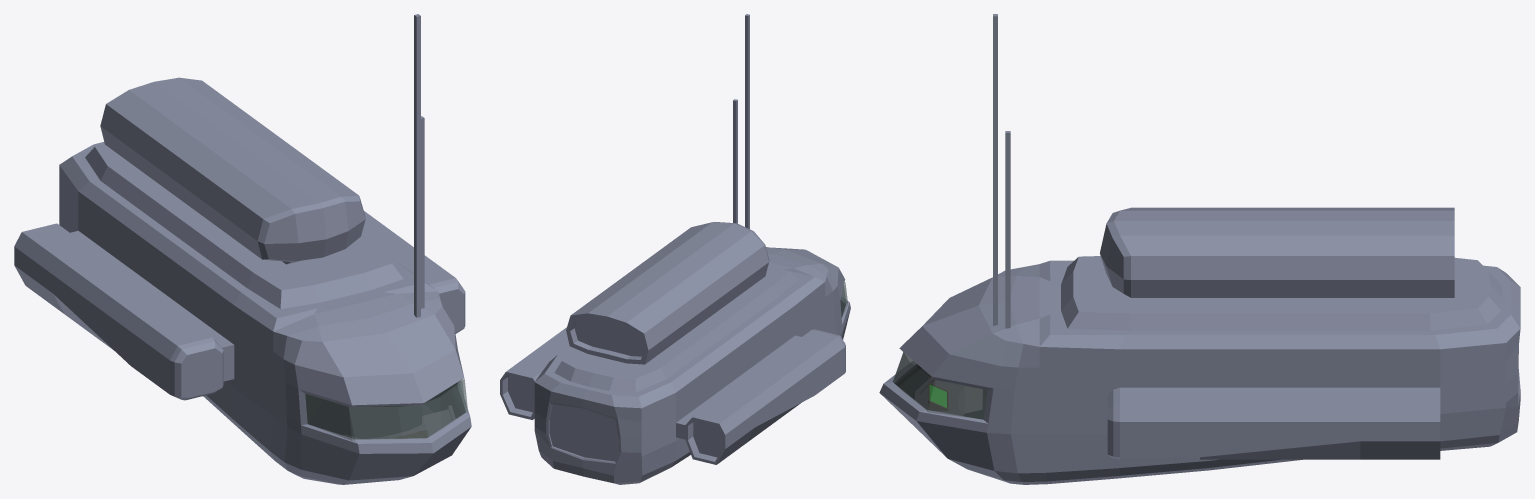
File: Ship.fbx
The picture shows the model from 3 angles, left to right: view 1: azimuth 30°, elevation 25°; view 2: azimuth 150°, elevation 25°; view 3: azimuth 270°, elevation 25°; orthographic projection. The views are drawn at different scales.
Visible parts, largest first — view 1: ship body, int, antenna large, Console, antenna small; view 2: ship body, antenna large, antenna small; view 3: ship body, int, antenna large, Console, antenna small.
Part boxes in pixels (left/top/right/bottom): ship body: left=14, top=77, right=471, bottom=484; int: left=305, top=378, right=467, bottom=440; antenna large: left=414, top=14, right=420, bottom=317; Console: left=343, top=405, right=455, bottom=438; antenna small: left=421, top=116, right=424, bottom=308; ship body: left=500, top=222, right=850, bottom=484; antenna large: left=745, top=14, right=749, bottom=228; antenna small: left=733, top=99, right=737, bottom=223; ship body: left=879, top=207, right=1520, bottom=484; int: left=893, top=352, right=987, bottom=419; antenna large: left=993, top=14, right=997, bottom=325; Console: left=915, top=377, right=982, bottom=415; antenna small: left=1005, top=131, right=1010, bottom=328.
Bounding box in the file's own units: 356 × 654 × 525.
